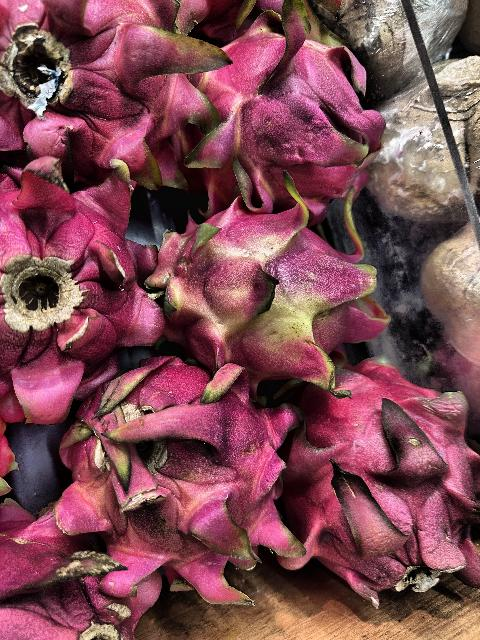buah-naga-belum-matang: (142, 196, 392, 384)
buah-naga-matang: (40, 352, 308, 608), (284, 358, 480, 600), (0, 149, 170, 411), (188, 8, 380, 214), (0, 1, 220, 176), (0, 490, 170, 640)
